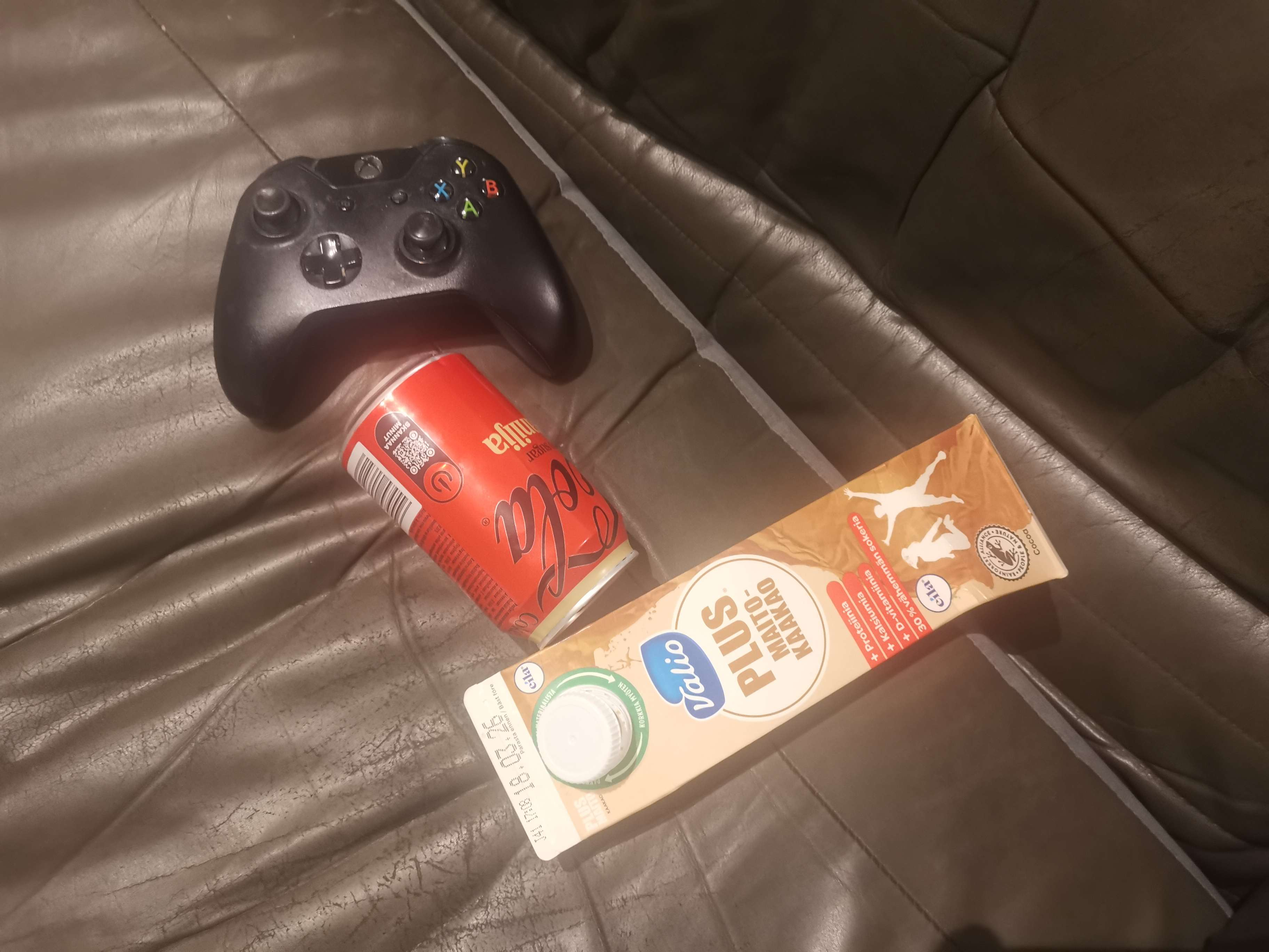Dryckeskartong: (463, 412, 1071, 861), (338, 352, 640, 651)
